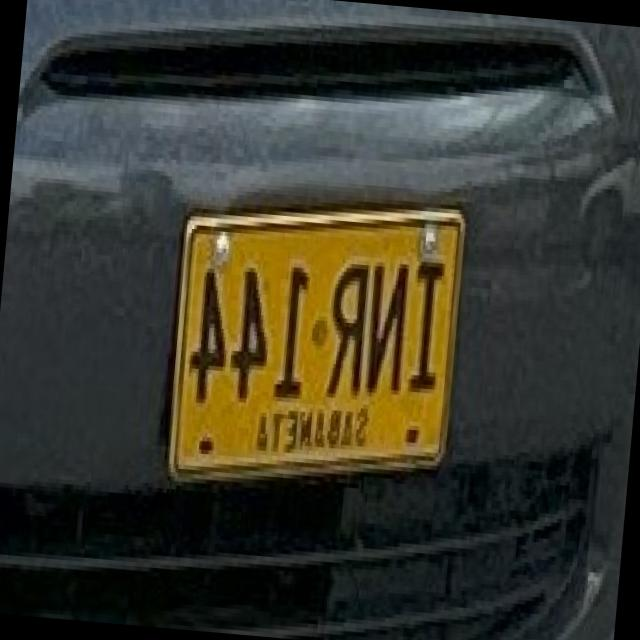number plate: (173, 204, 466, 473)
